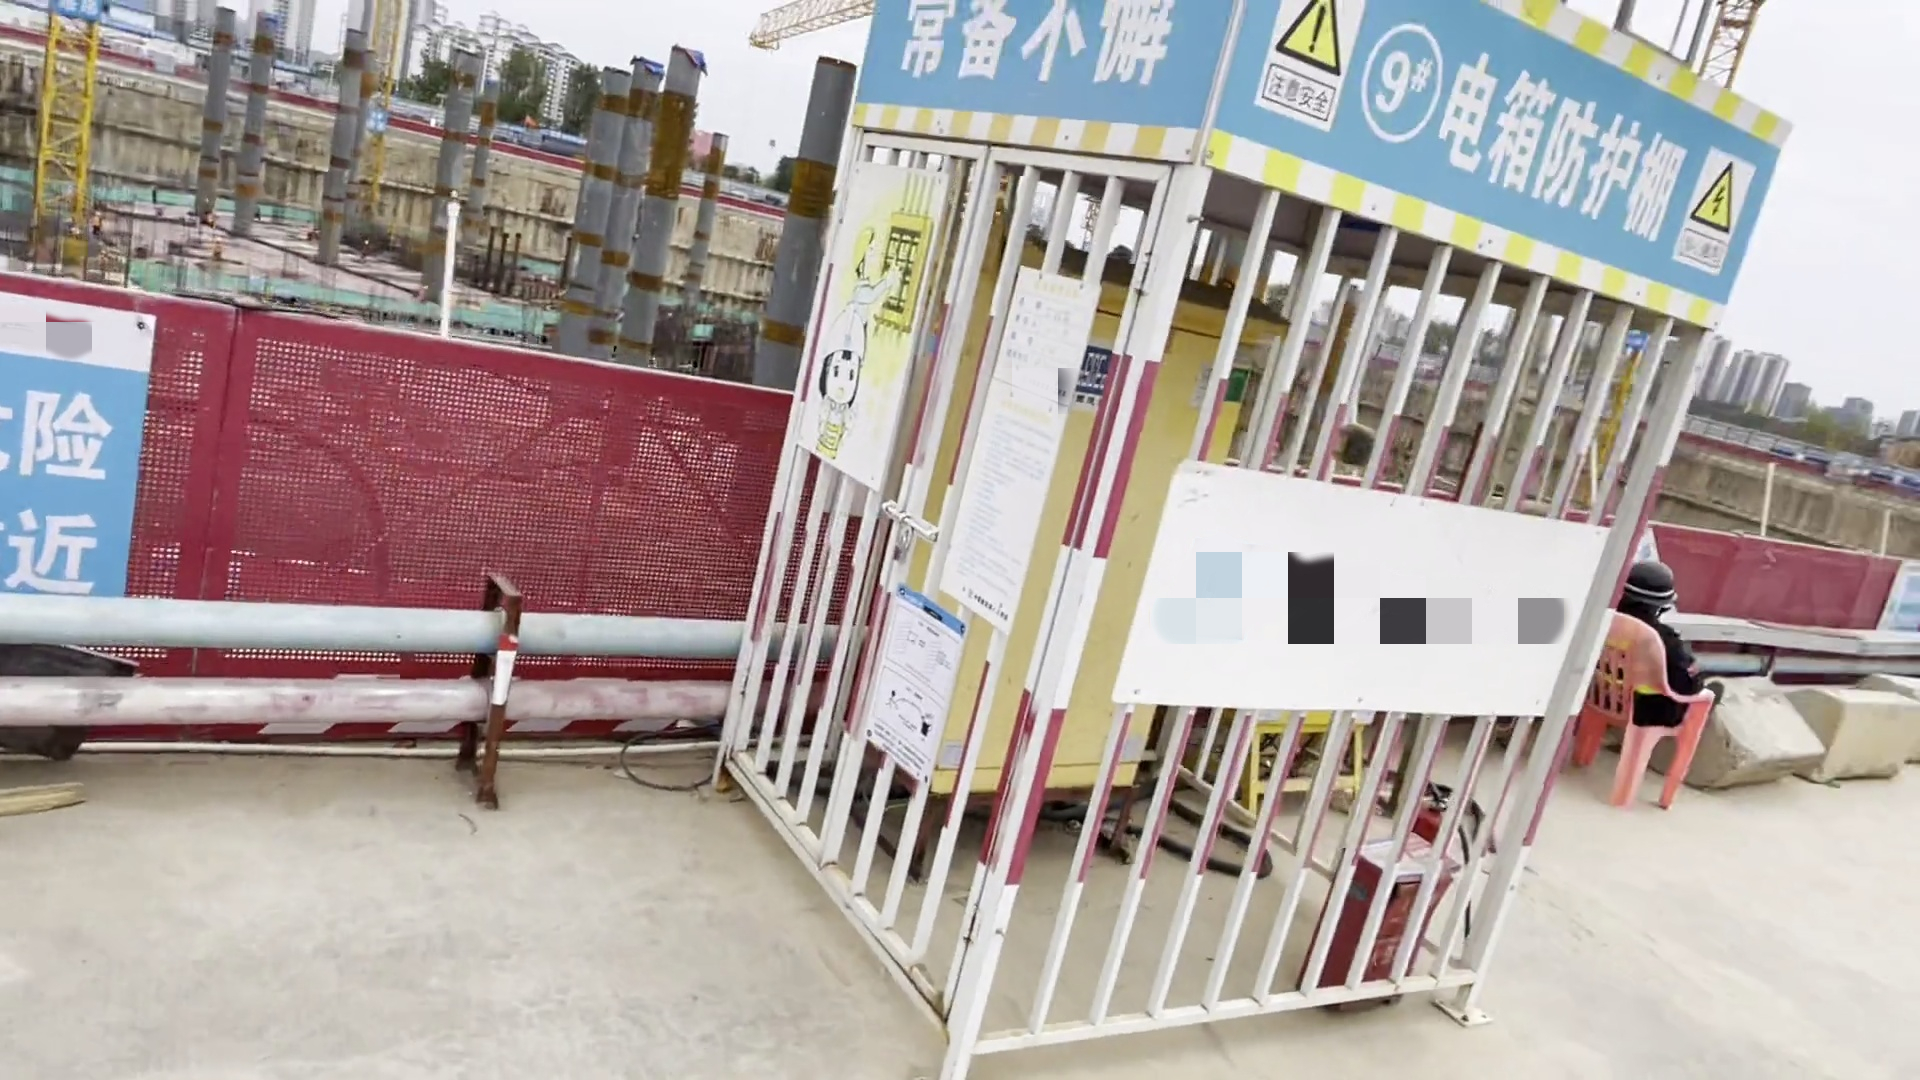ebox: (931, 281, 1284, 820)
fence: (208, 324, 738, 752), (1664, 509, 1898, 636)
slogan: (1349, 16, 1737, 278), (1, 327, 167, 604), (881, 1, 1197, 138)
